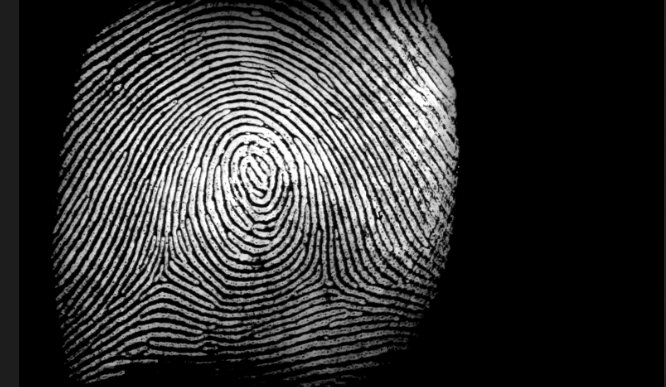nucelo: (227, 151, 280, 208)
verticilo: (309, 263, 342, 297), (146, 255, 169, 288)
